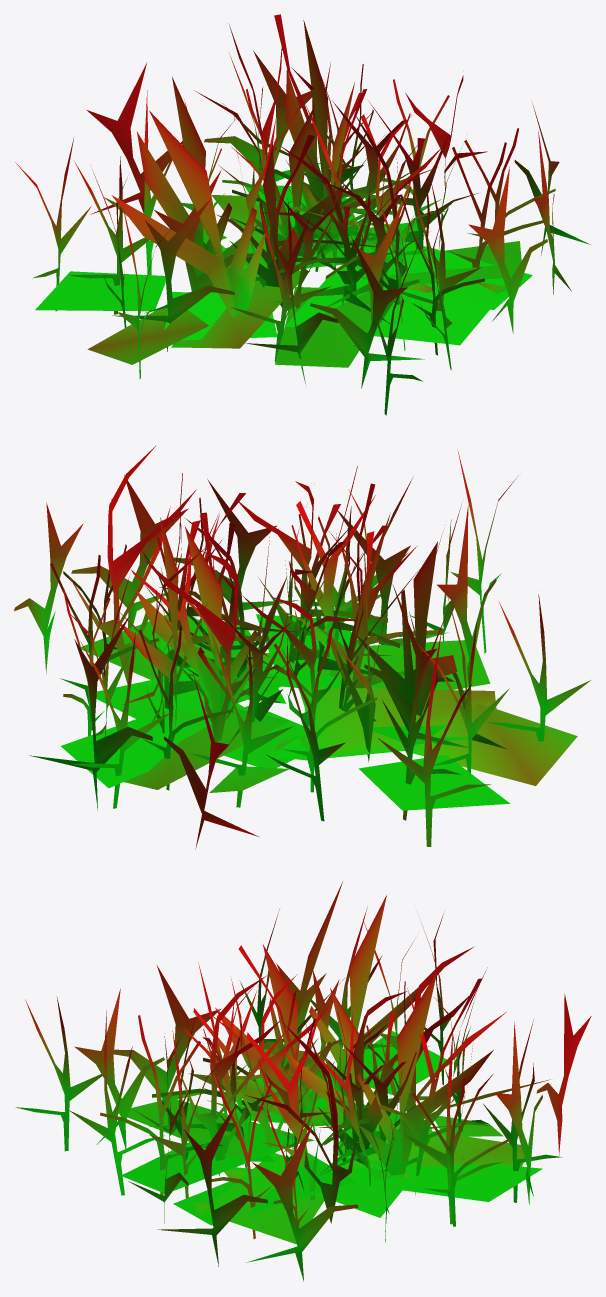
File: Kikuyu Grass_LOD4_Var5_wiljearqx.fbx
3 views of the same model, one above another, from view 1: azimuth 30°, elevation 25°; view 2: azimuth 150°, elevation 25°; view 3: azimuth 270°, elevation 25° (orthographic). The views are drawn at different scales.
Visible parts, largest first — view 1: _3weg_Var5_LOD4; view 2: _3weg_Var5_LOD4; view 3: _3weg_Var5_LOD4.
Part boxes in pixels (x1,y1,x2,y2): _3weg_Var5_LOD4: (15, 14, 590, 415); _3weg_Var5_LOD4: (14, 446, 590, 849); _3weg_Var5_LOD4: (15, 881, 591, 1281).
Bounding box in the file's own units: 72.63 × 33.78 × 75.92.
